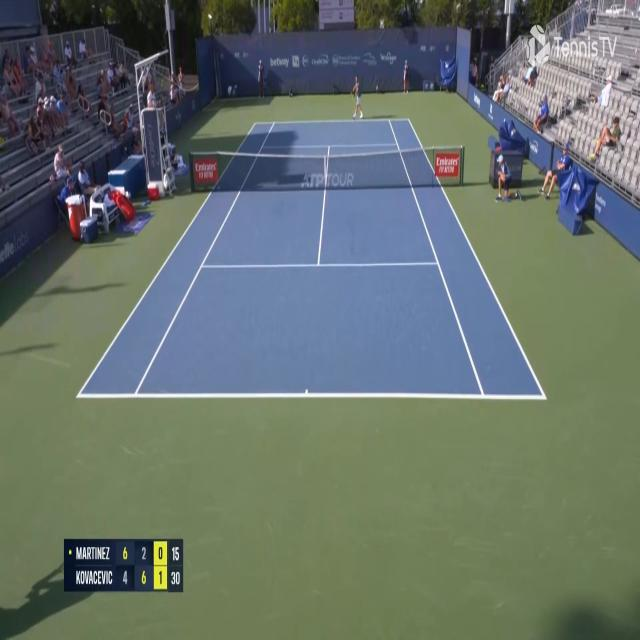tennis-player: (350, 74, 364, 122)
